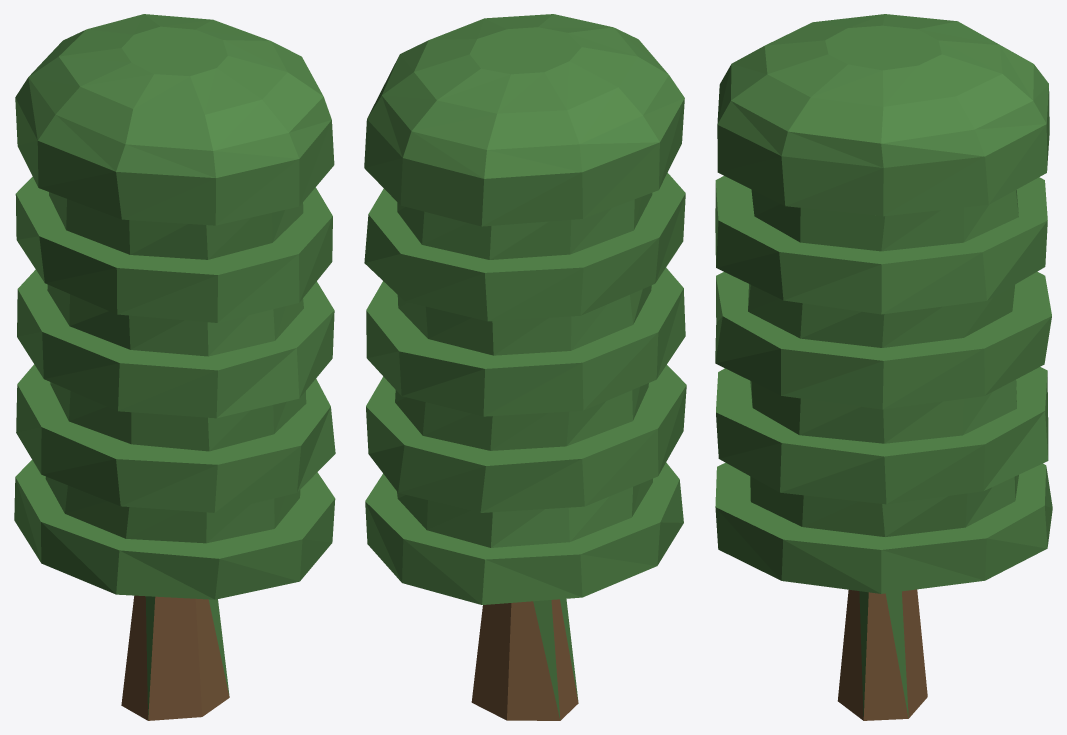
File: tree3d-105.glb
3 renders of one model, left to right at view 1: azimuth 30°, elevation 25°; view 2: azimuth 150°, elevation 25°; view 3: azimuth 270°, elevation 25°, orthographic.
Parts seen in each view (by area): view 1: tree3d-105; view 2: tree3d-105; view 3: tree3d-105.
Boxes of the visible parts, bbox=[...] form: tree3d-105: bbox=[14, 14, 335, 720]; tree3d-105: bbox=[364, 14, 686, 720]; tree3d-105: bbox=[715, 14, 1052, 720].
Size of the model in its own units: 0.4379 by 1 by 0.4694.
